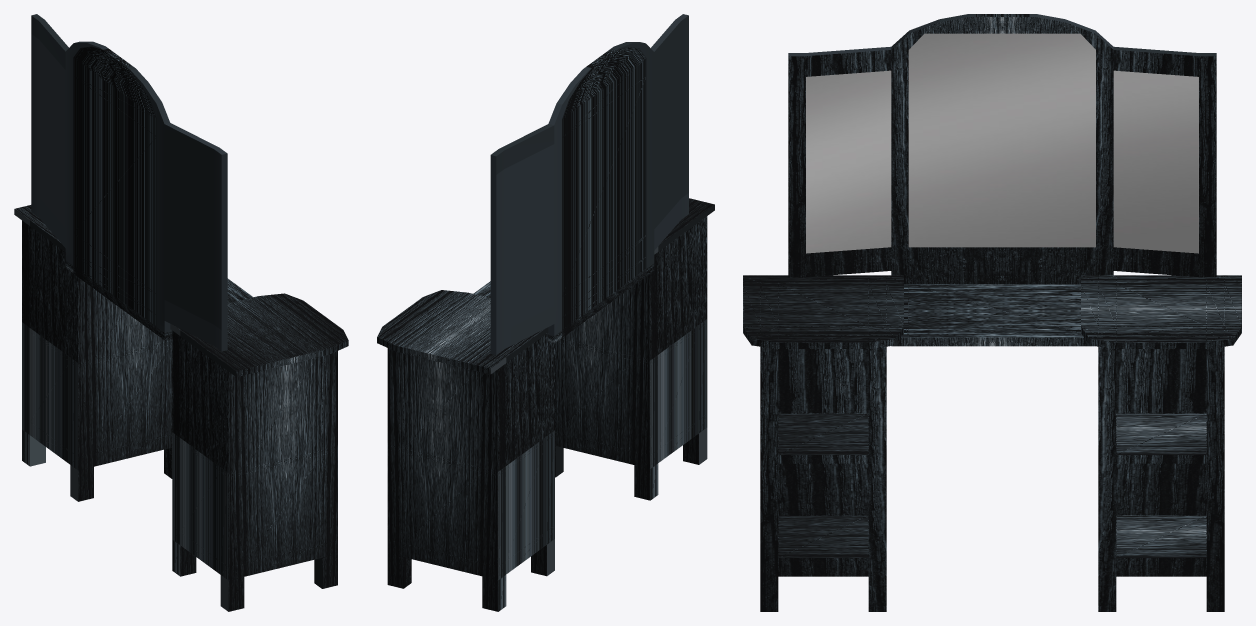
File: vanity_desk_model.fbx
3 views of the same model, side by side, from view 1: azimuth 30°, elevation 25°; view 2: azimuth 150°, elevation 25°; view 3: azimuth 270°, elevation 25° (orthographic). The views are drawn at different scales.
Visible parts, largest first — view 1: pCube30; view 2: pCube30; view 3: pCube30.
Boxes of the visible parts, x1,y1,x2,y2 form: pCube30: [14, 14, 348, 611]; pCube30: [377, 14, 714, 611]; pCube30: [743, 14, 1241, 611].
Bounding box in the file's own units: 0.0864 × 0.3051 × 0.258.
